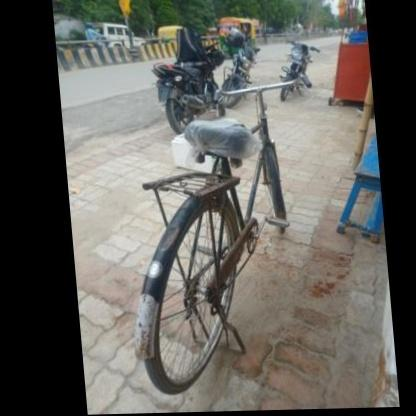Bicycle: (110, 66, 341, 404)
